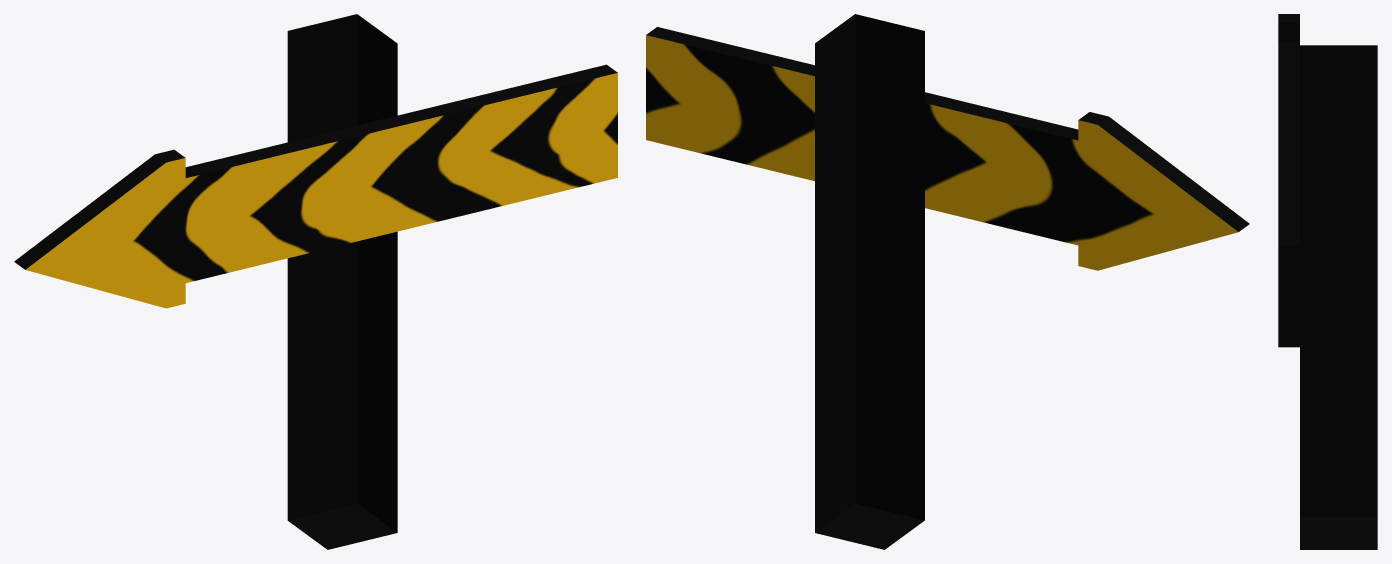
The model's file is arrow_sign.glb.
The picture shows the model from 3 angles, left to right: view 1: azimuth 30°, elevation 25°; view 2: azimuth 150°, elevation 25°; view 3: azimuth 270°, elevation 25°; orthographic projection. The views are drawn at different scales.
Visible parts, largest first — view 1: arrow_sign; view 2: arrow_sign; view 3: arrow_sign.
Boxes of the visible parts, box(x1,y1,x2,y2) form: arrow_sign: box(14, 14, 617, 549); arrow_sign: box(646, 14, 1249, 549); arrow_sign: box(1278, 14, 1377, 549).
Bounding box in the file's own units: 1.7 × 1.34 × 0.2561.
Materials: 1 (1 with a texture image).
